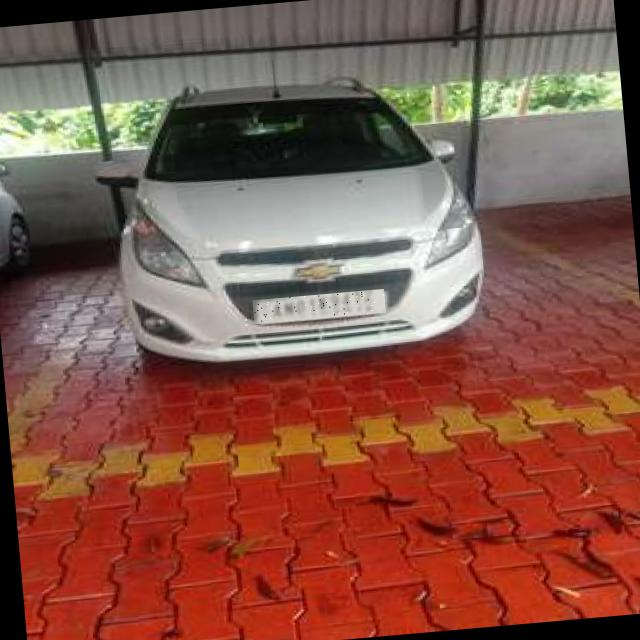Plate: (253, 290, 387, 325)
